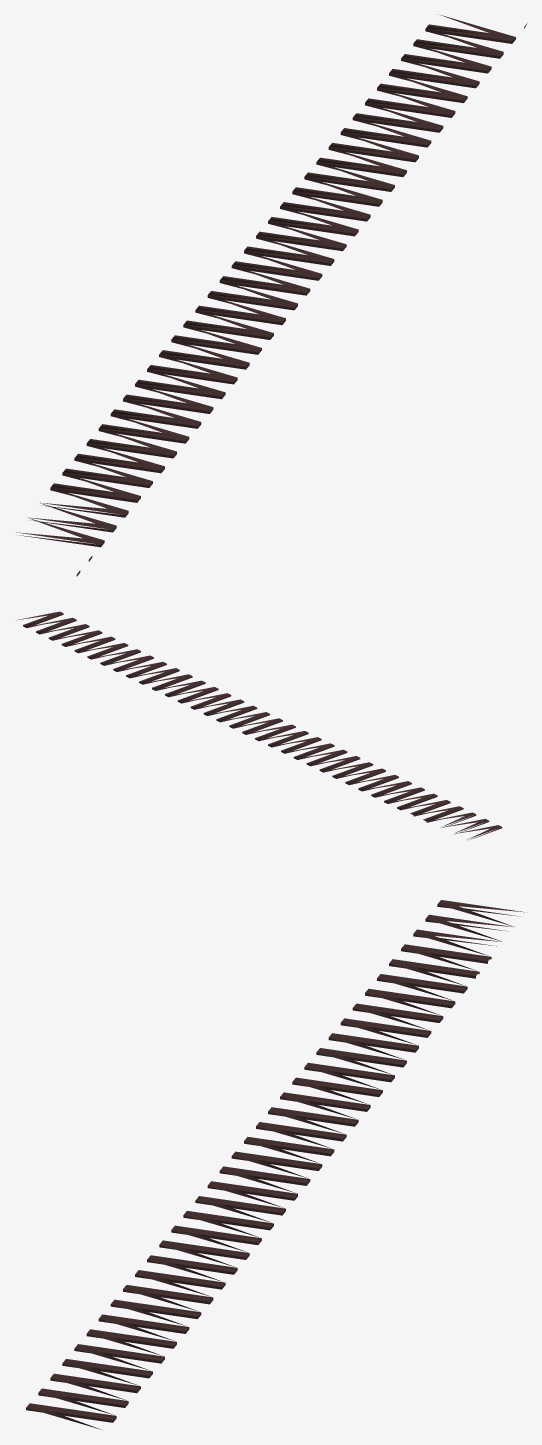
3 views of the same model, one above another, from view 1: azimuth 90°, elevation 25°; view 2: azimuth 150°, elevation 25°; view 3: azimuth 270°, elevation 25° (orthographic). The views are drawn at different scales.
Bounding box in the file's own units: 30.78 × 0.064 × 11.93.
